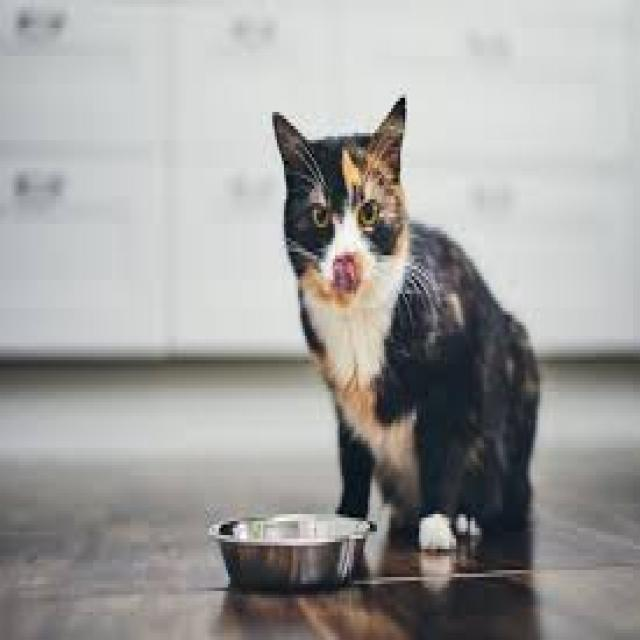Cat: (257, 91, 545, 557)
